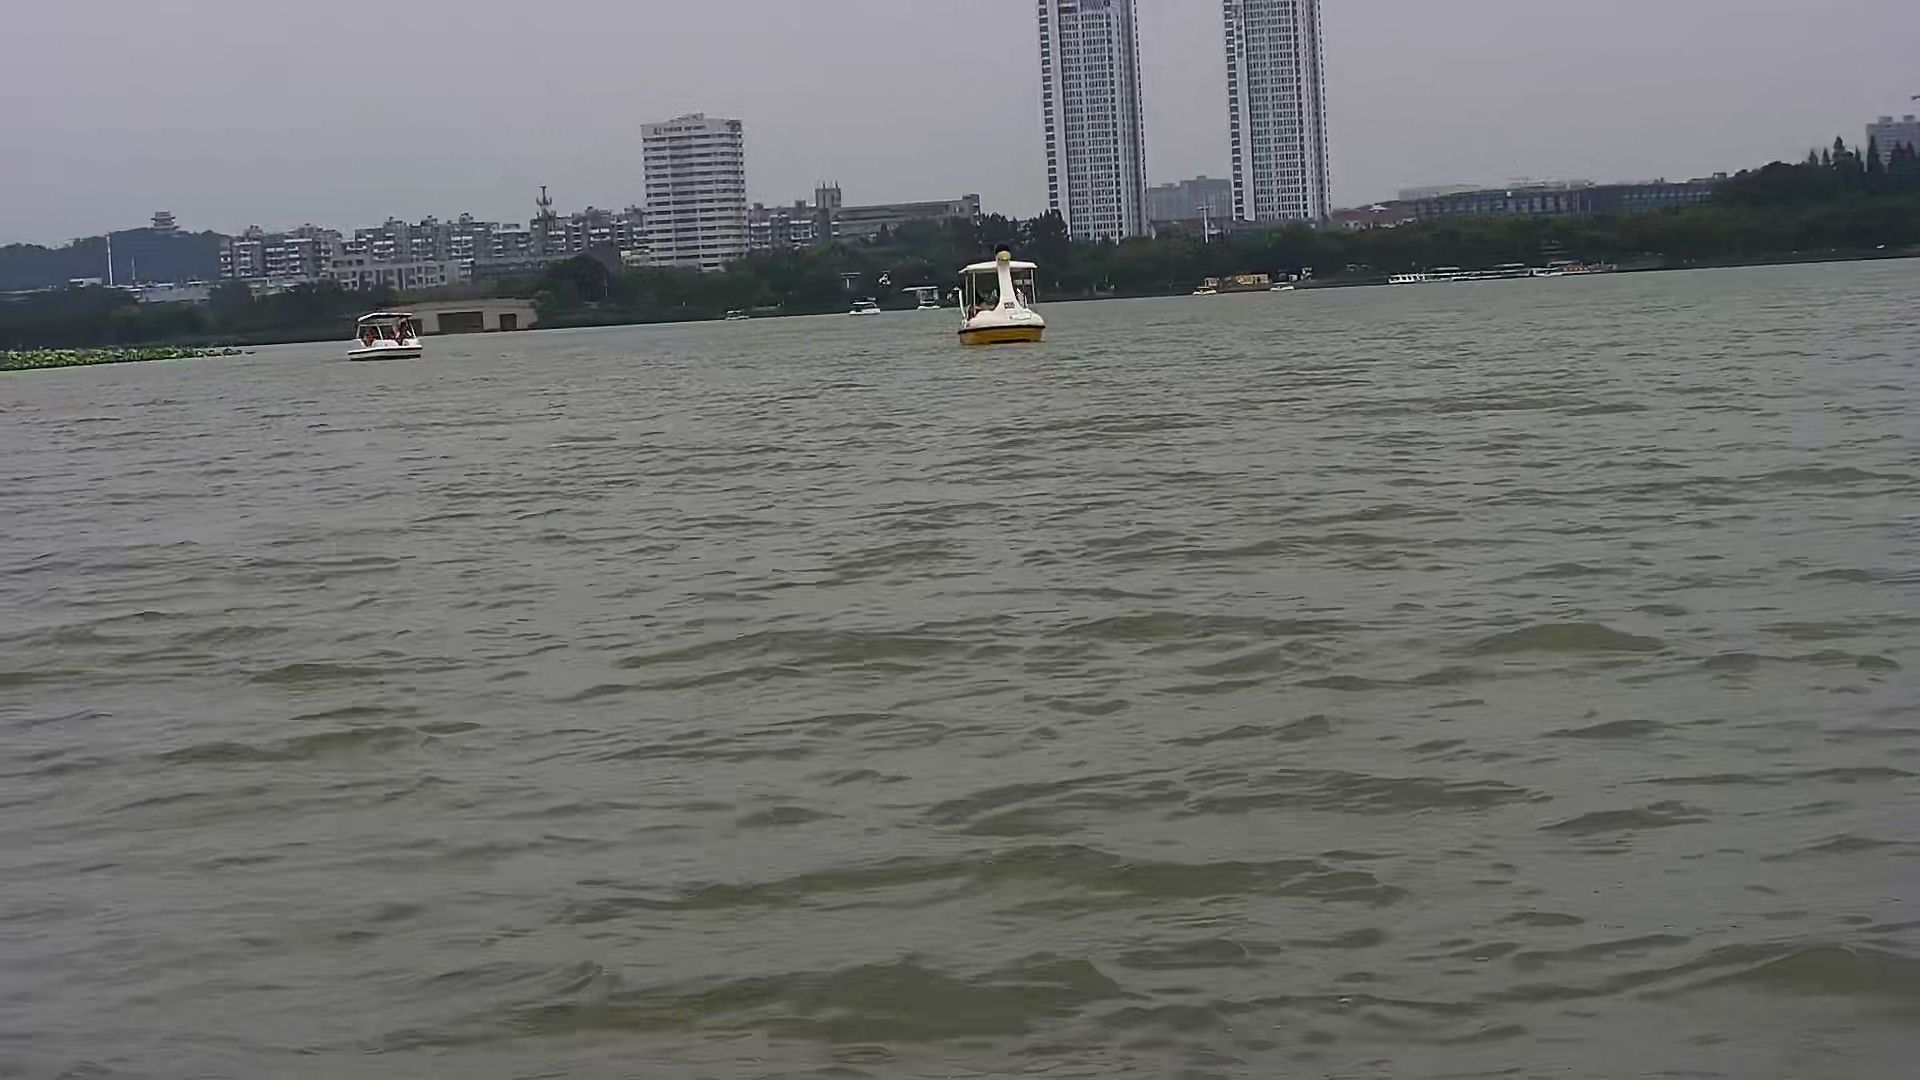boat: (951, 241, 1054, 349), (339, 309, 427, 359)
